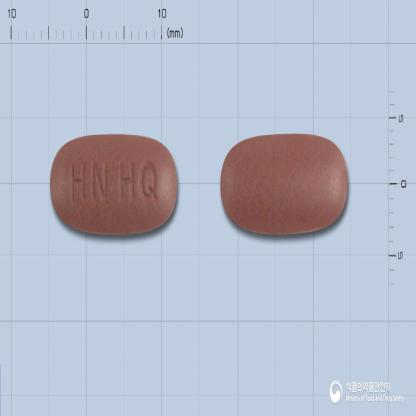pill: (49, 131, 178, 236), (218, 133, 348, 234)
